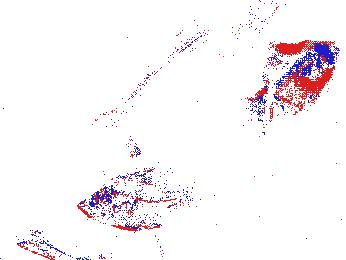X-ray fish: (240, 43, 340, 119), (76, 173, 205, 230)
glassfish: (90, 1, 288, 134)
